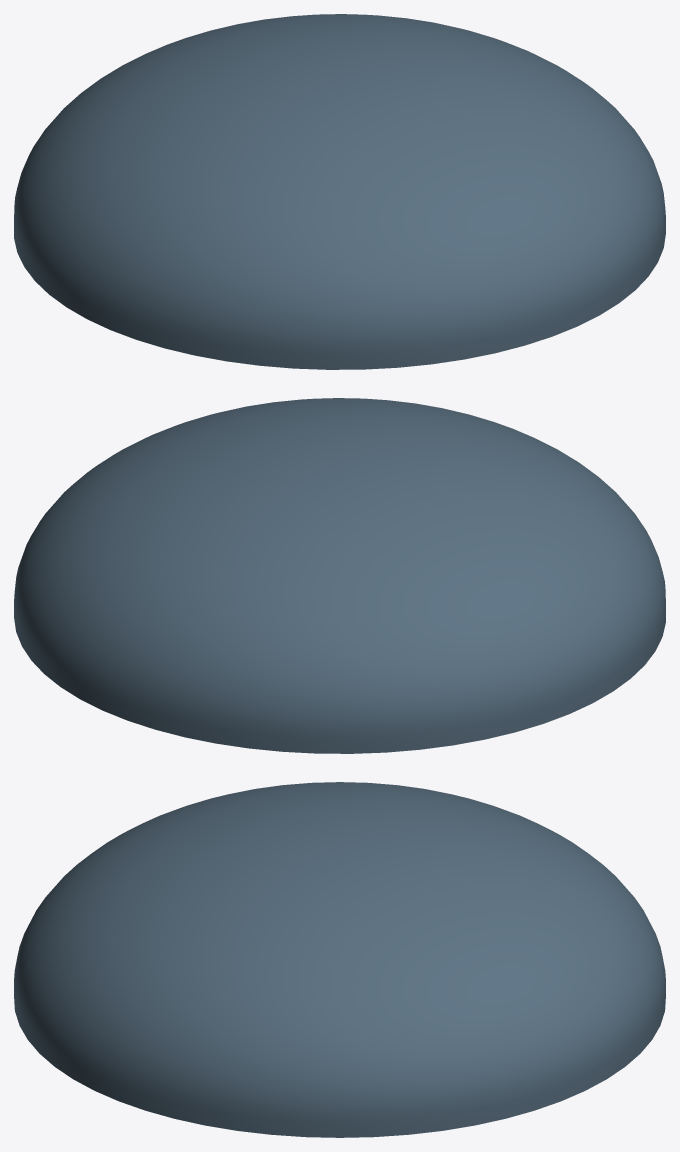
Rendered from dnishche-920x10.glb.
3 renders of one model, top to bottom at view 1: azimuth 30°, elevation 25°; view 2: azimuth 150°, elevation 25°; view 3: azimuth 270°, elevation 25°, orthographic.
Visible parts, largest first — view 1: Open CASCADE STEP translator 7.9 29; view 2: Open CASCADE STEP translator 7.9 29; view 3: Open CASCADE STEP translator 7.9 29.
Boxes of the visible parts, bbox=[...] form: Open CASCADE STEP translator 7.9 29: bbox=[14, 14, 665, 369]; Open CASCADE STEP translator 7.9 29: bbox=[14, 398, 665, 753]; Open CASCADE STEP translator 7.9 29: bbox=[14, 782, 665, 1137].
Bounding box in the file's own units: 919 × 255 × 920.
